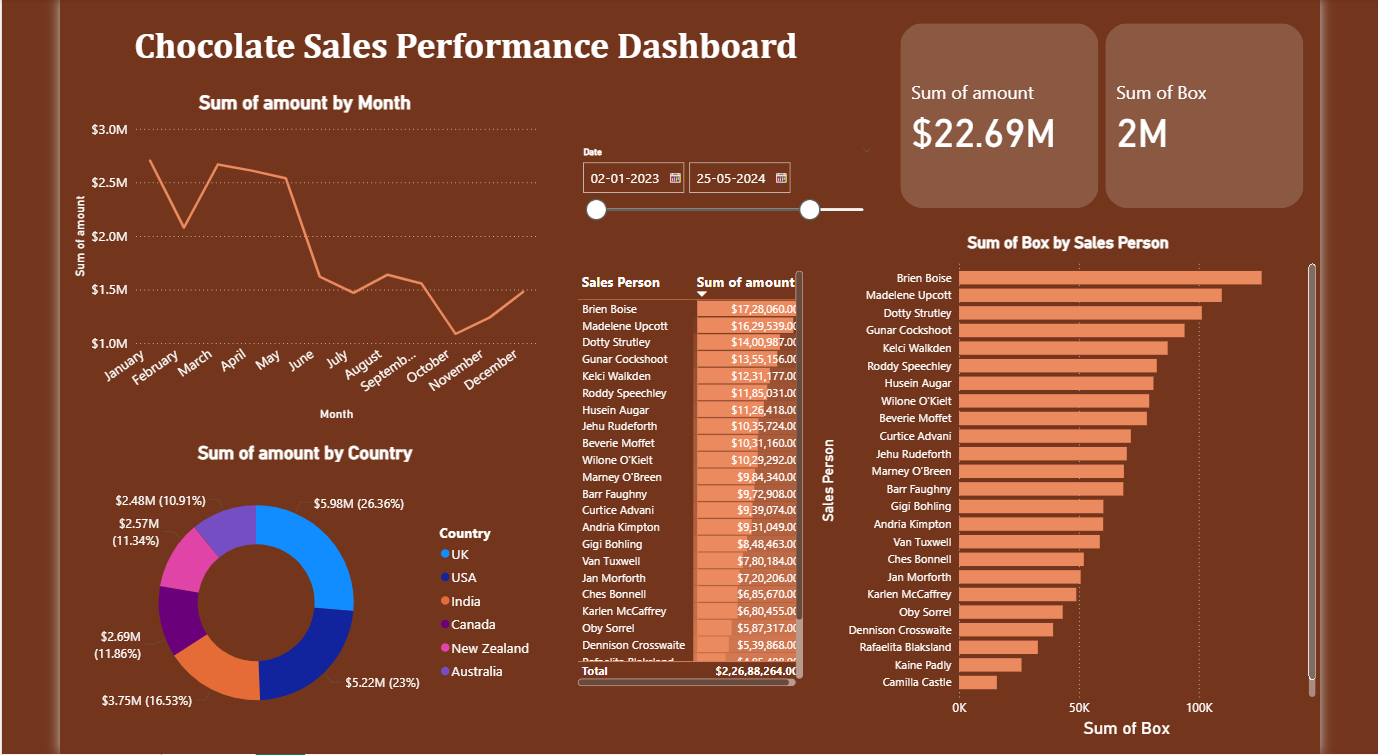

The page's visual inventory and layout, read from the dashboard file:
{"tool":"powerbi","page":{"name":"Page 1","canvas":[1500,900],"ordinal":0},"visuals":[{"type":"lineChart","fields":{"Category":["data.Date.Variation.Date Hierarchy.Month"],"Y":["data.SUmof measure"]},"box":[10.4,110.1,562.5,398.8],"z":0},{"type":"slicer","fields":{"Values":["data.Date"]},"box":[610.1,171.1,367.6,108.6],"z":1000},{"type":"tableEx","fields":{"Values":["data.Sales Person","data.Sum of amount"]},"box":[610.1,319.9,279.8,504.5],"z":2000},{"type":"donutChart","fields":{"Y":["data.Sum of amount"],"Category":["data.Country"]},"box":[10.4,528.3,562.5,357.1],"z":3000},{"type":"clusteredBarChart","fields":{"Y":["data.Sum of Box"],"Category":["data.Sales Person"]},"box":[900.3,279.8,599.7,605.7],"z":4000},{"type":"cardVisual","fields":{"Data":["data.Sum of amount","data.Sum of Box"]},"box":[995.5,25.3,491.1,230.7],"z":5000},{"type":"textbox","box":[20.8,25.3,931.6,84.8],"z":6000}]}

Visuals, with their boxes on the page's 1500x900 design canvas (x1, y1, x2, y2). These are canvas units, not pixel positions in the 1378x755 screenshot, which may show the page scaled, cropped or inside an application window:
lineChart - data.Date.Variation.Date Hierarchy.Month x data.SUmof measure: (left=10, top=110, right=573, bottom=509)
slicer - data.Date: (left=610, top=171, right=978, bottom=280)
tableEx - data.Sales Person x data.Sum of amount: (left=610, top=320, right=890, bottom=824)
donutChart - data.Sum of amount x data.Country: (left=10, top=528, right=573, bottom=885)
clusteredBarChart - data.Sum of Box x data.Sales Person: (left=900, top=280, right=1500, bottom=886)
cardVisual - data.Sum of amount x data.Sum of Box: (left=996, top=25, right=1487, bottom=256)
textbox: (left=21, top=25, right=952, bottom=110)
